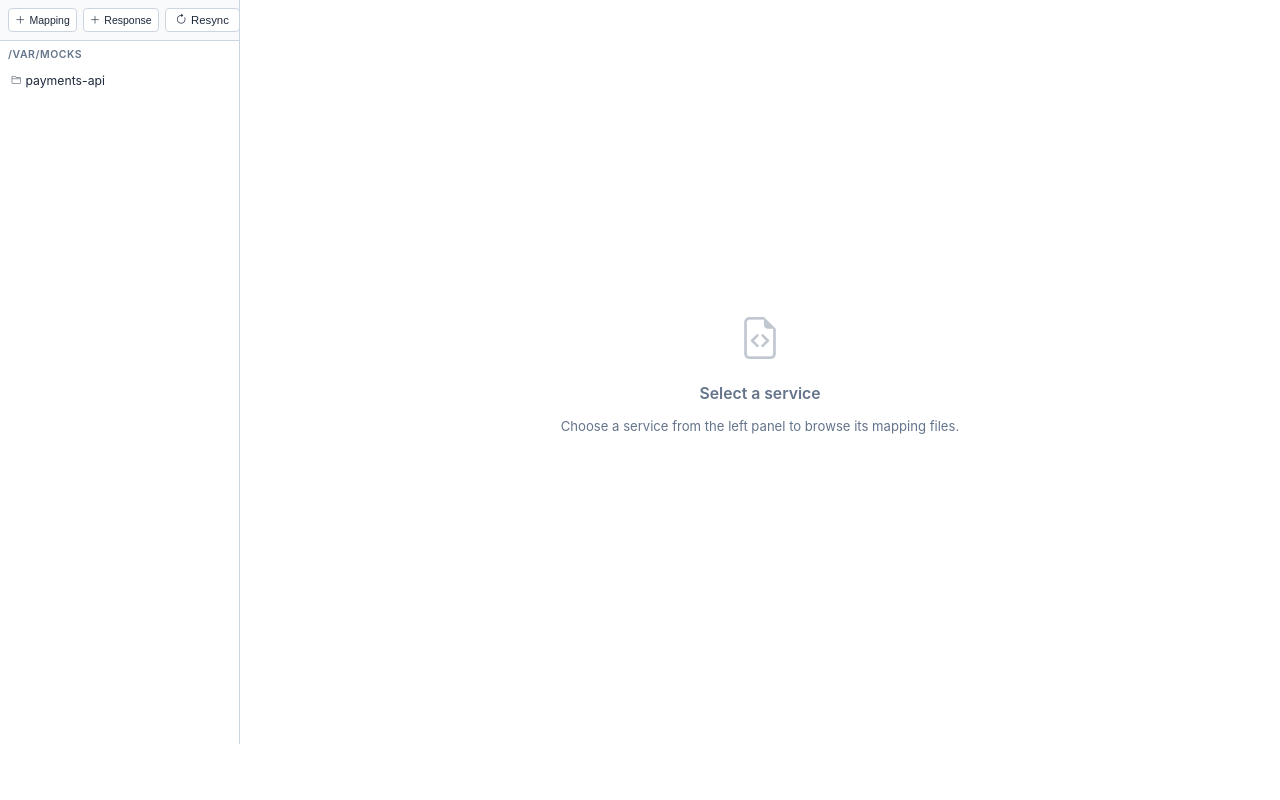
Test: Story 4.2 — MappingsPage: Create files › AC-12: '+ New Response' button opens the file-naming modal
Expected: the button with test id "mappings-btn-new-response" is shown, [83,8,159,32]
Click the text "payments-api" at coordinates (65, 80), box [25,73,105,88]
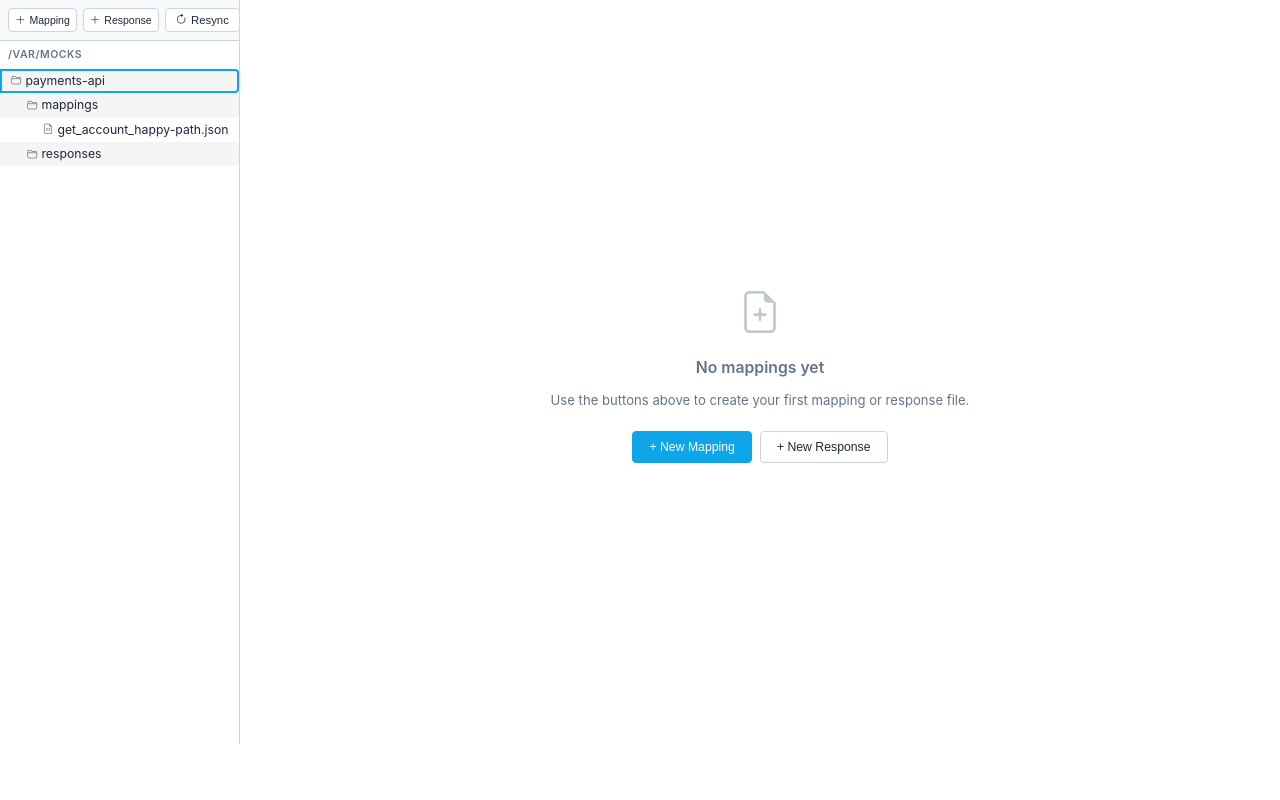
Click the button with test id "mappings-btn-new-response" at coordinates (121, 20), box [83,8,159,32]
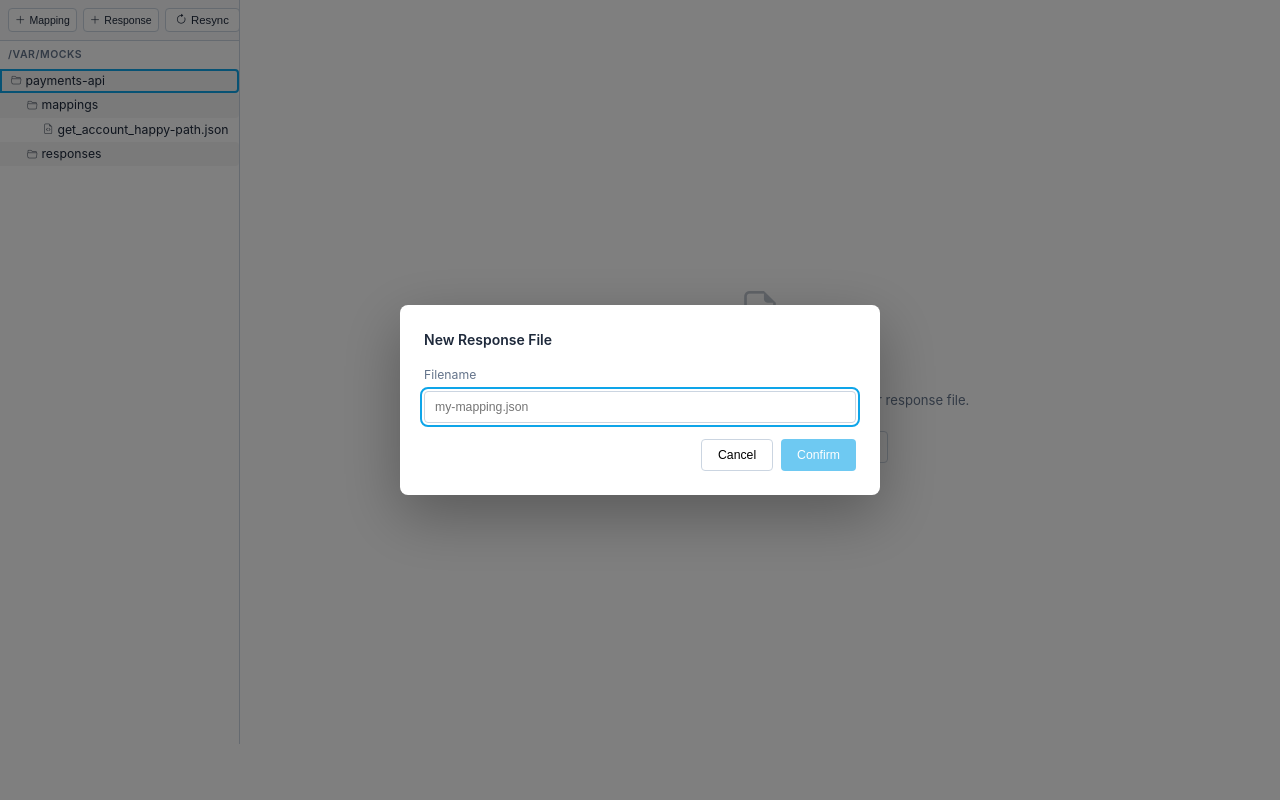
Expected: the dialog with test id "mappings-modal-file-name" is shown
